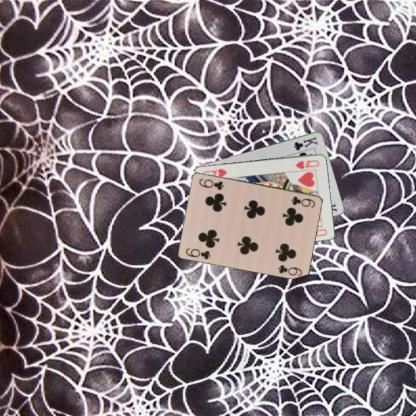6c: (183, 245, 212, 260), (289, 194, 317, 209)
Kc: (291, 134, 318, 152)
Qh: (294, 157, 321, 170)
